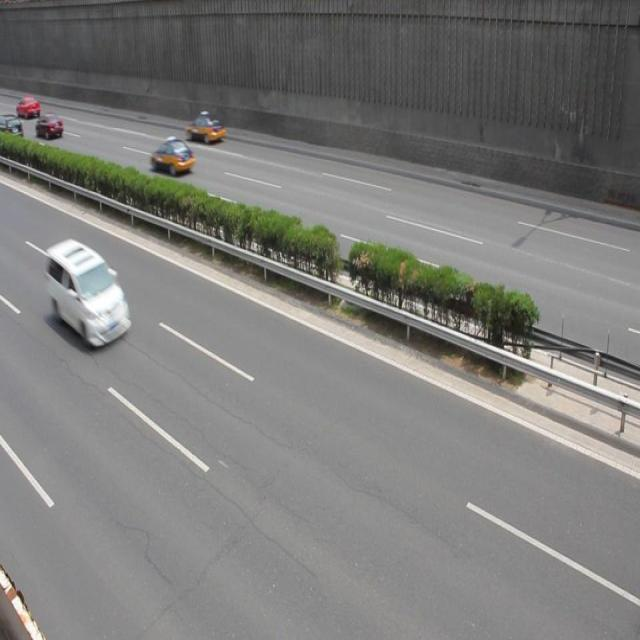car: (150, 134, 196, 177), (185, 112, 225, 144), (36, 112, 65, 140)
truck: (44, 239, 128, 350)
